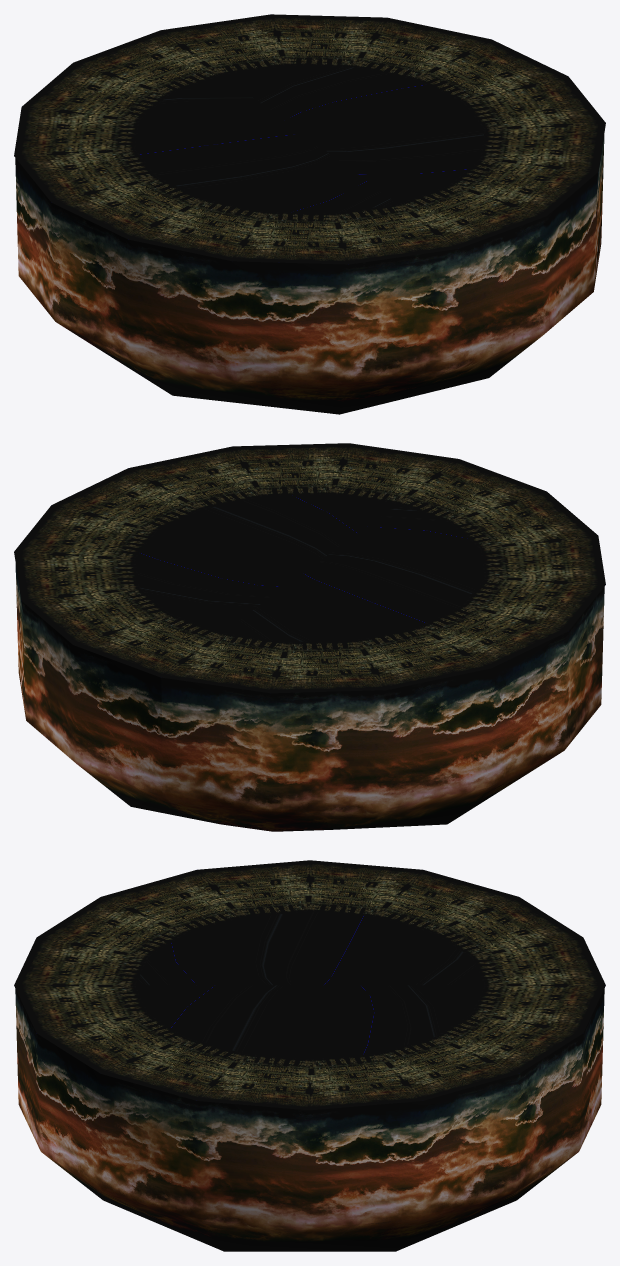
File: Skybox 2 (Robot Storm).fbx
3 renders of one model, top to bottom at view 1: azimuth 30°, elevation 25°; view 2: azimuth 150°, elevation 25°; view 3: azimuth 270°, elevation 25°, orthographic.
Parts seen in each view (by area): view 1: Object_2.020; view 2: Object_2.020; view 3: Object_2.020.
Part boxes in pixels (bbox=[...]): Object_2.020: bbox=[14, 14, 605, 414]; Object_2.020: bbox=[14, 443, 605, 831]; Object_2.020: bbox=[14, 860, 605, 1251].
Bounding box in the file's own units: 7195864 × 2665638 × 7195864.
